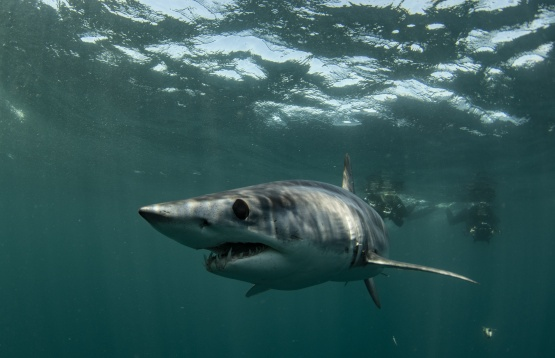Mako: (134, 148, 488, 318)
